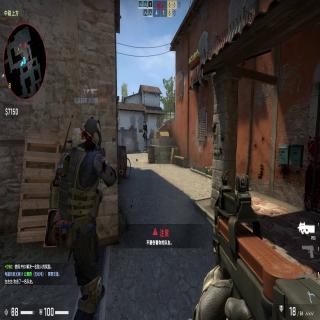CT-Head: (85, 117, 104, 153)
T-Body: (142, 122, 148, 142)
T-Head: (144, 122, 146, 125)
